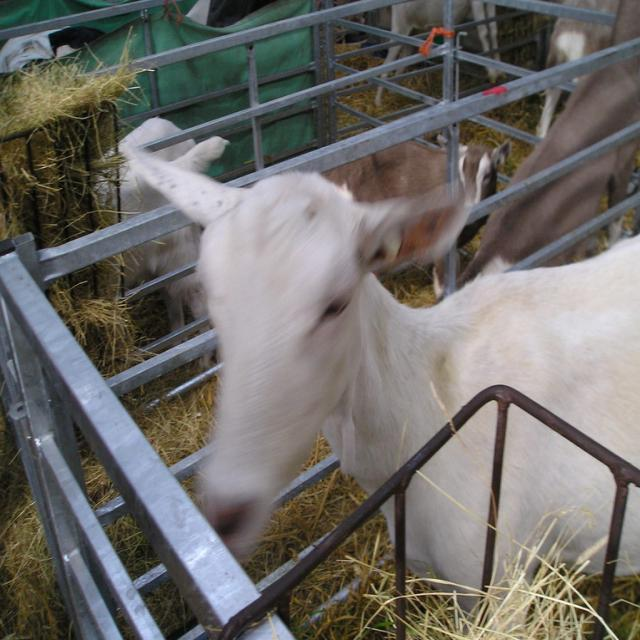Goat: (123, 132, 639, 620), (94, 118, 511, 364), (432, 0, 639, 299), (373, 0, 506, 107)
